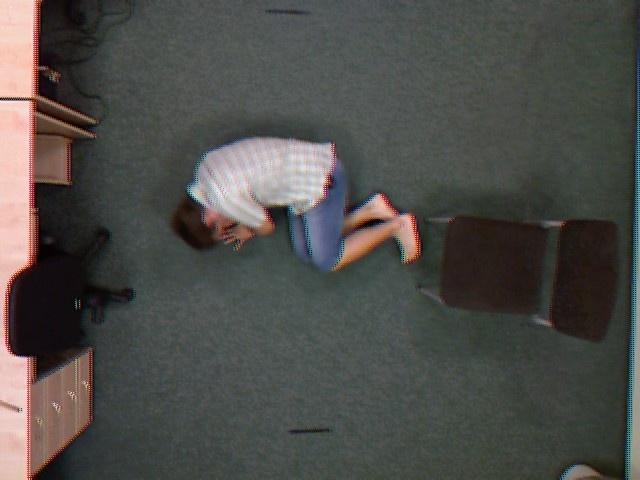fall: (166, 133, 422, 280)
